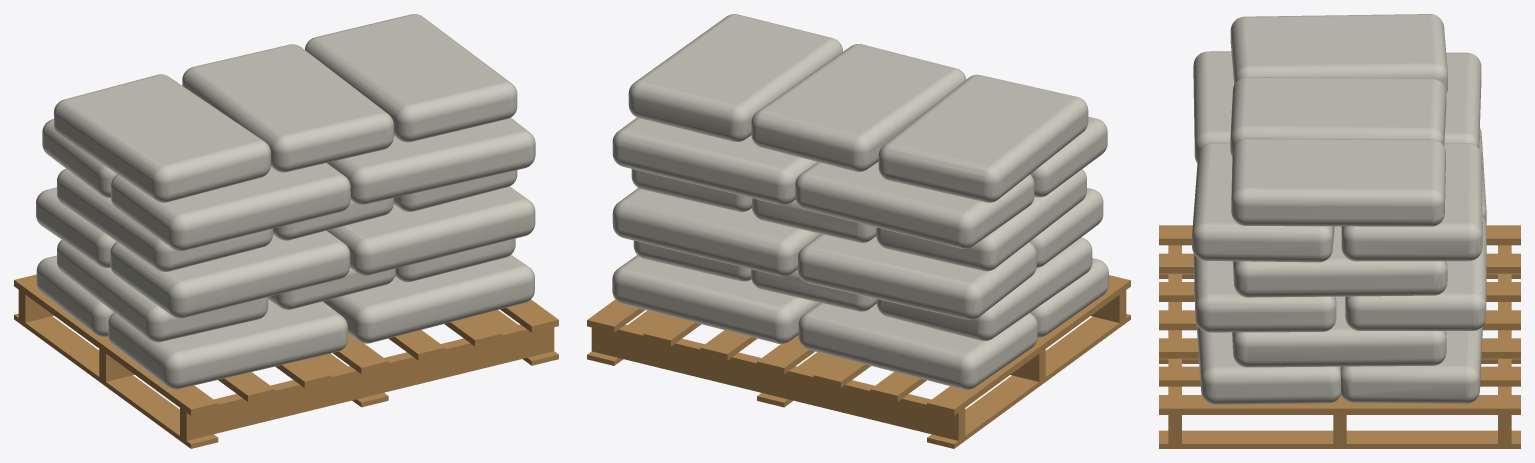
File: pallet-concrete-bags.glb
3 views of the same model, side by side, from view 1: azimuth 30°, elevation 25°; view 2: azimuth 150°, elevation 25°; view 3: azimuth 270°, elevation 25° (orthographic). The views are drawn at different scales.
Visible parts, largest first — view 1: bag_L5_2_222bf0, deck_board_6_3cee57; view 2: bag_L5_2_222bf0, deck_board_6_3cee57; view 3: bag_L5_2_222bf0, deck_board_6_3cee57.
Boxes of the visible parts, x1=… form: bag_L5_2_222bf0: x1=36, y1=14, x2=535, y2=389; deck_board_6_3cee57: x1=14, y1=274, x2=558, y2=448; bag_L5_2_222bf0: x1=612, y1=14, x2=1108, y2=389; deck_board_6_3cee57: x1=587, y1=275, x2=1130, y2=448; bag_L5_2_222bf0: x1=1192, y1=14, x2=1486, y2=404; deck_board_6_3cee57: x1=1159, y1=225, x2=1520, y2=448.
Bounding box in the file's own units: 1.23 × 0.79 × 1.02.
